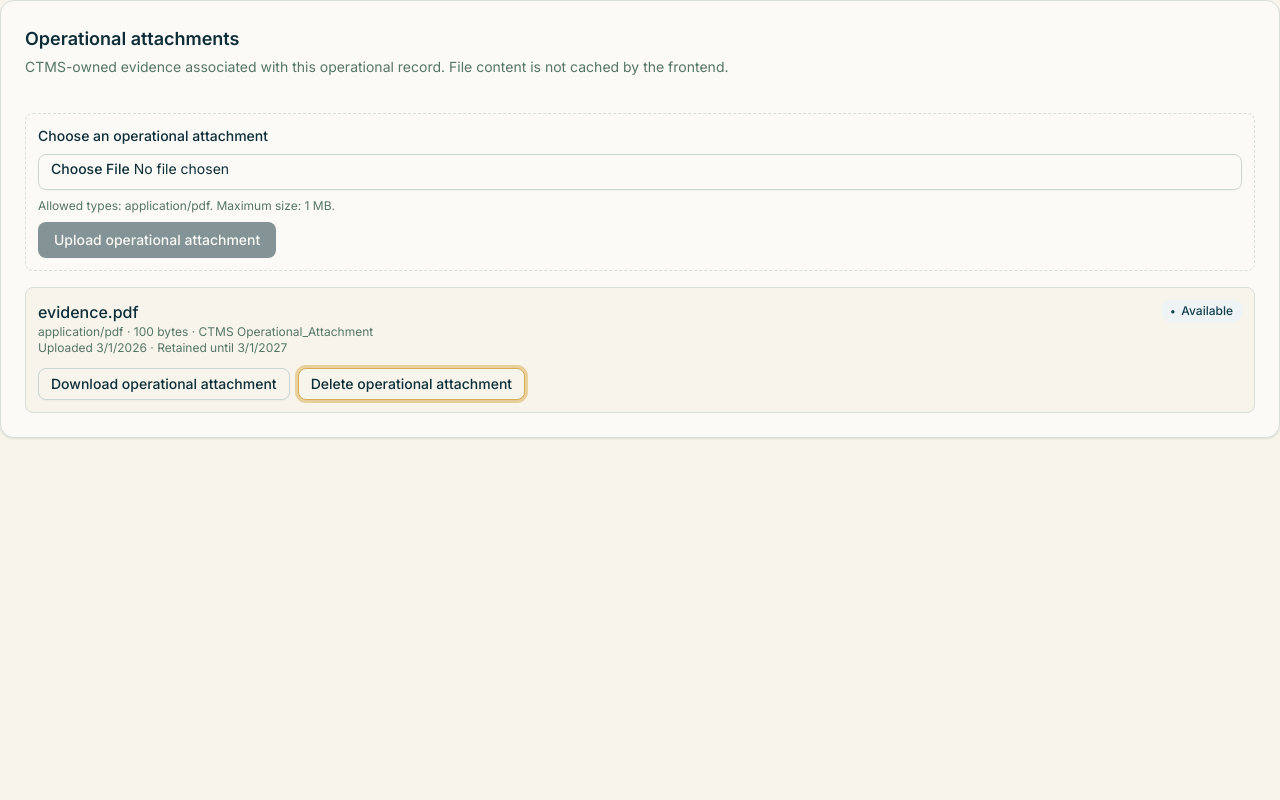
Test: CTMS operational attachment lifecycle › requires an audited reason in the shared confirmation dialog before lifecycle changes
Click the button "Delete operational attachment" at (411, 384), box 298,368 -> 525,400
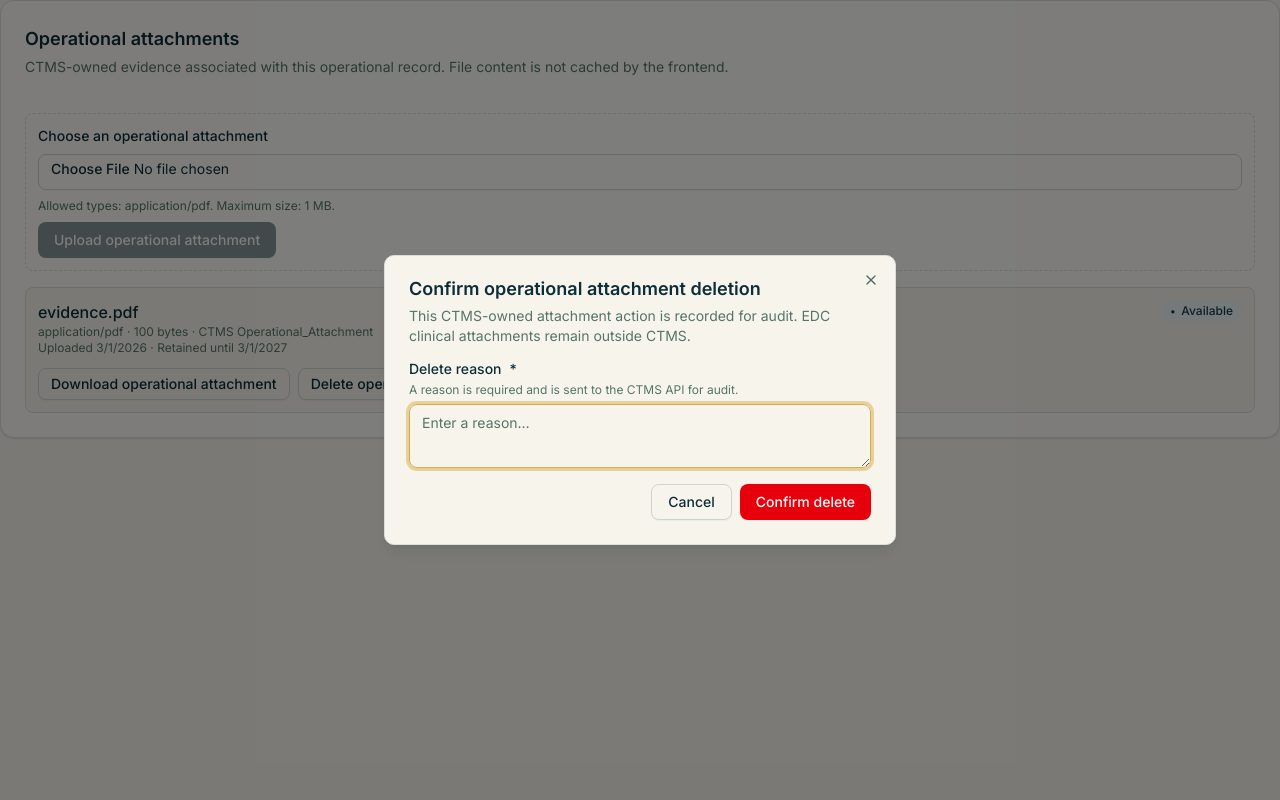
Expected: the dialog is shown, 384,255 -> 896,545
Expected: the button "Confirm delete" is enabled
Click the button "Confirm delete" at (805, 502), box 740,484 -> 871,520
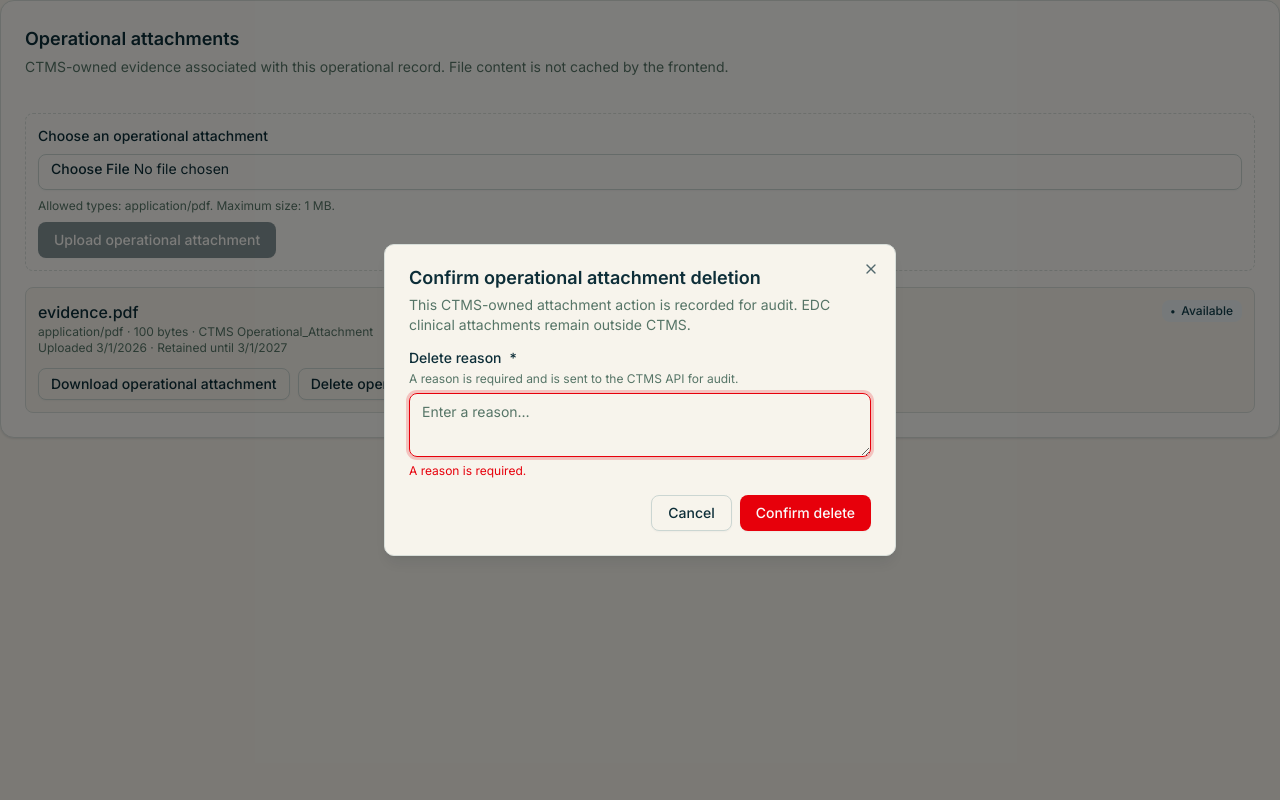
Expected: the message shows "A reason is required", 409,463 -> 526,478
Type "Retention review completed." into the text box labelled "Delete reason *" at (640, 425), box 409,393 -> 871,457
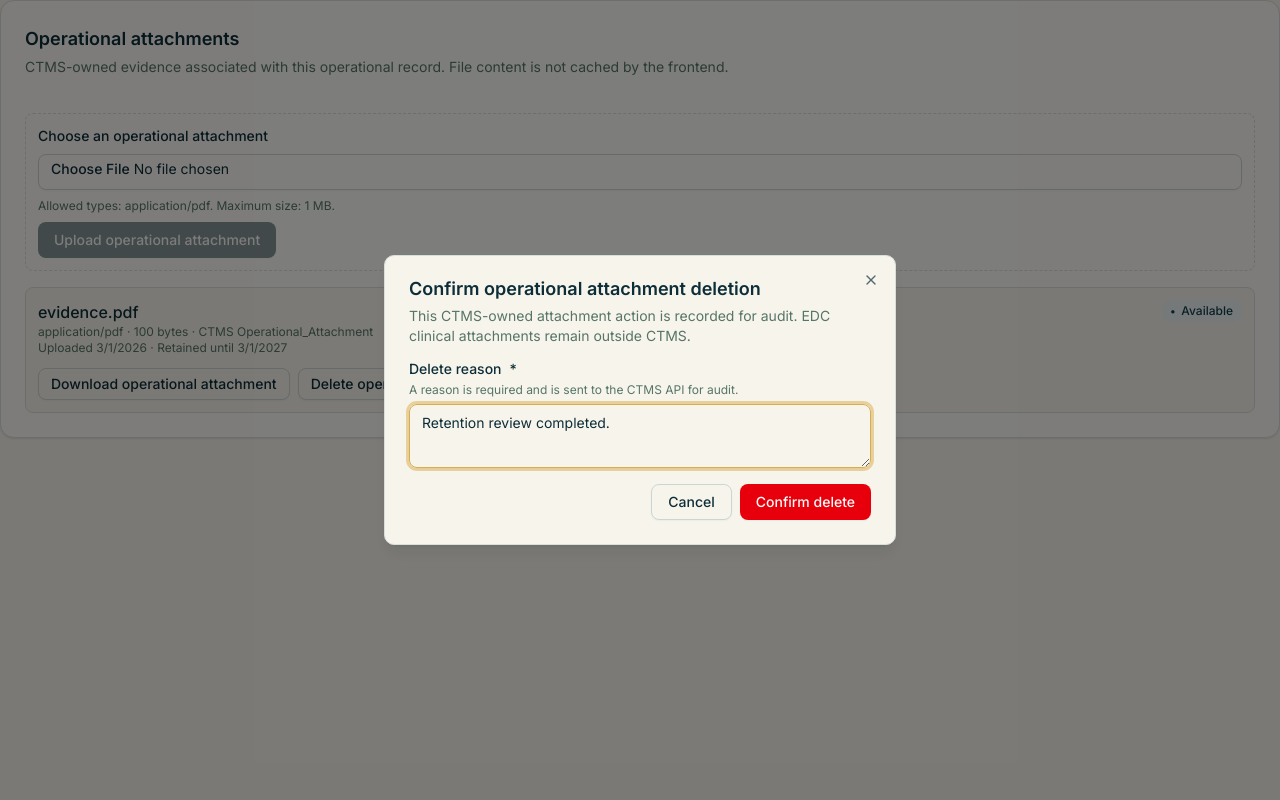
Click the button "Confirm delete" at (805, 502), box 740,484 -> 871,520
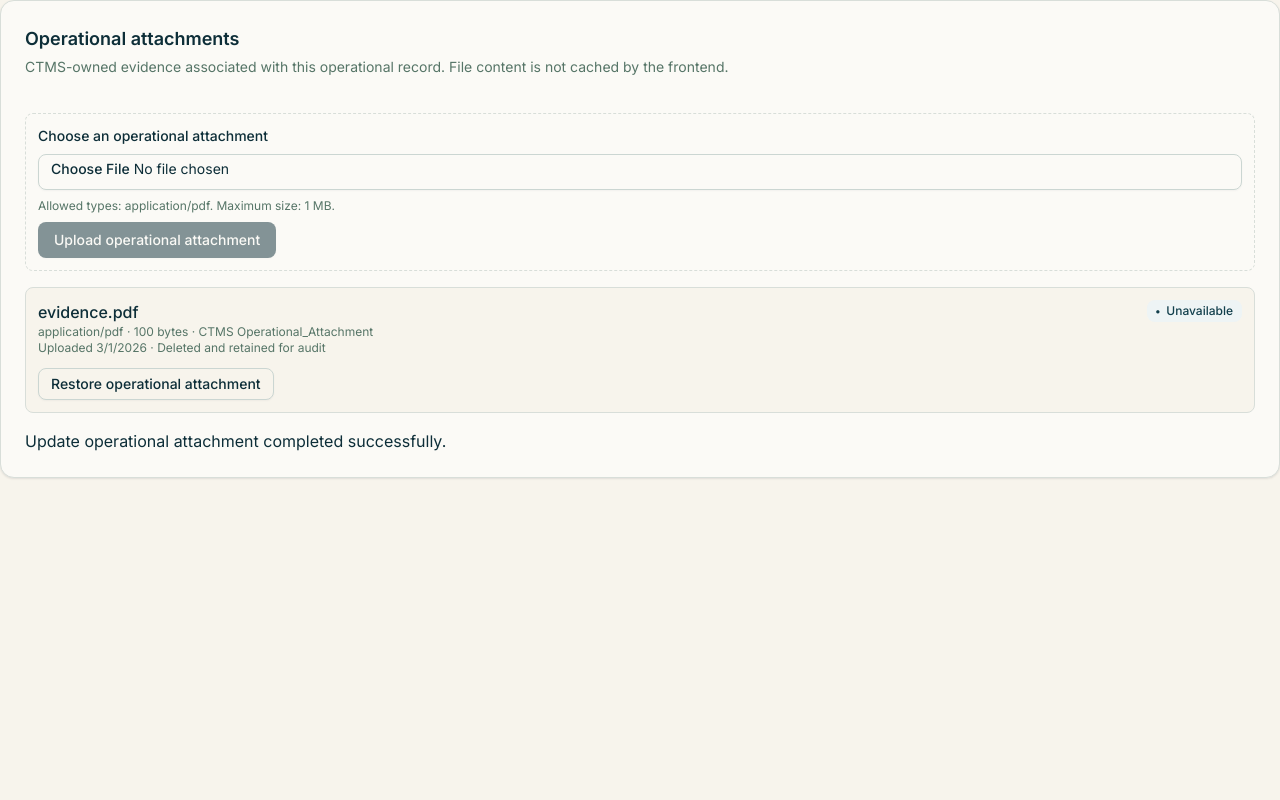
Expected: the text "Update operational attachment completed successfully." is shown, 25,431 -> 446,451
